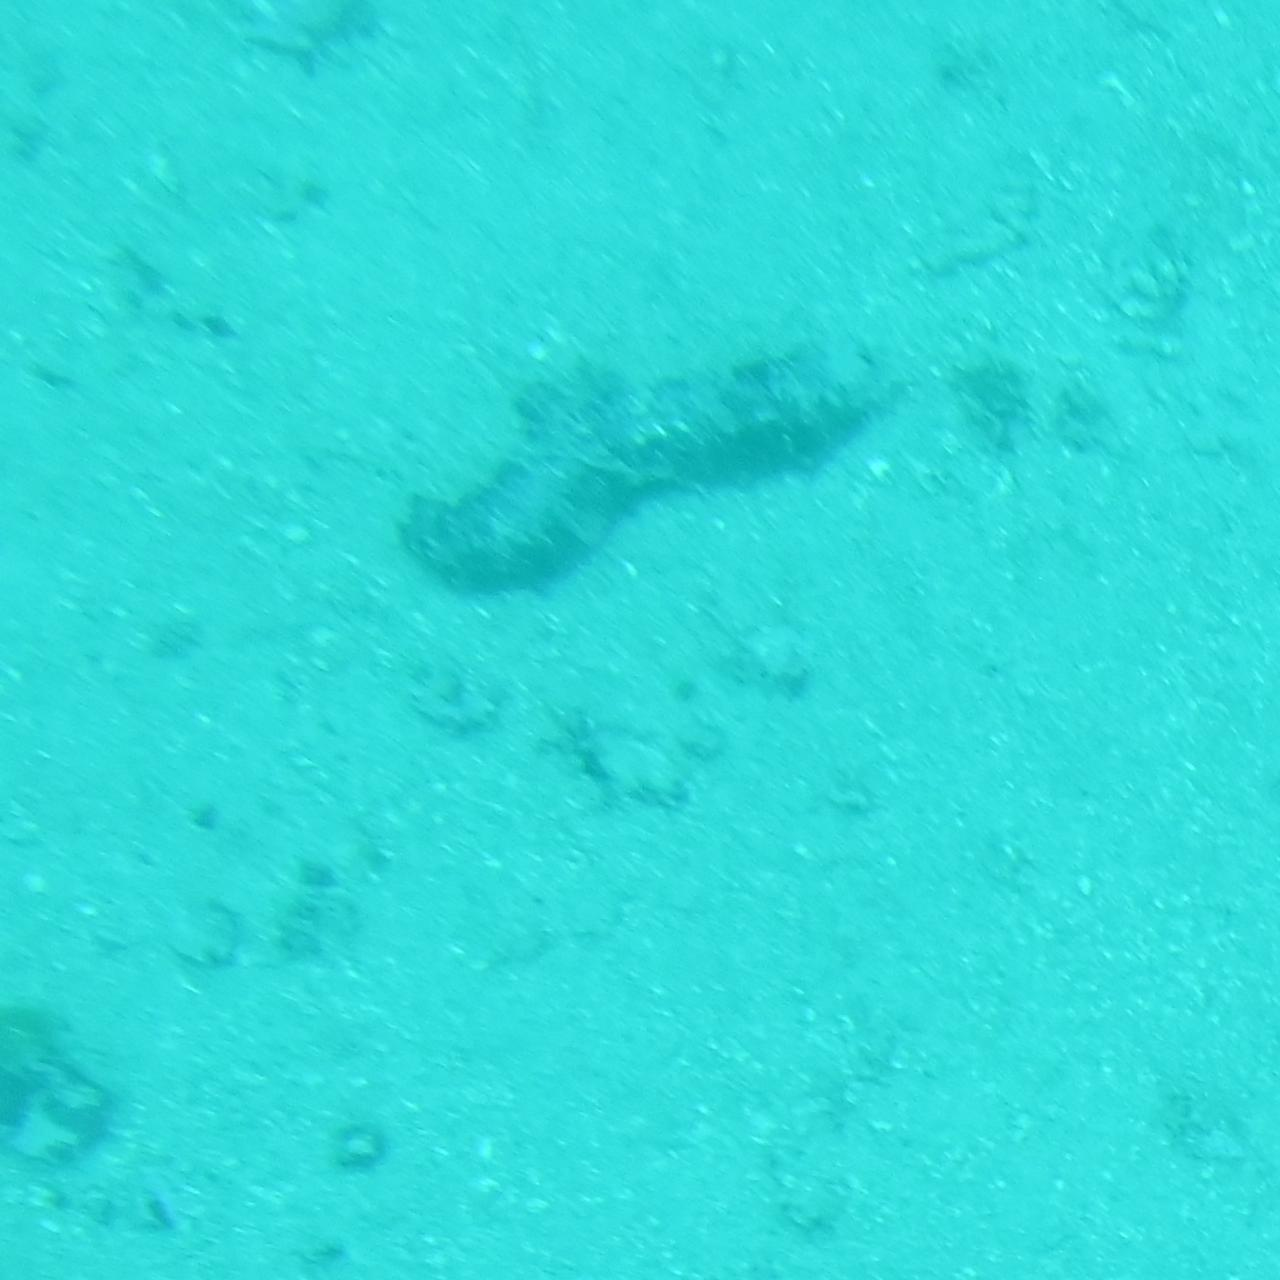Holothuria tubulosa: (385, 317, 895, 599)
